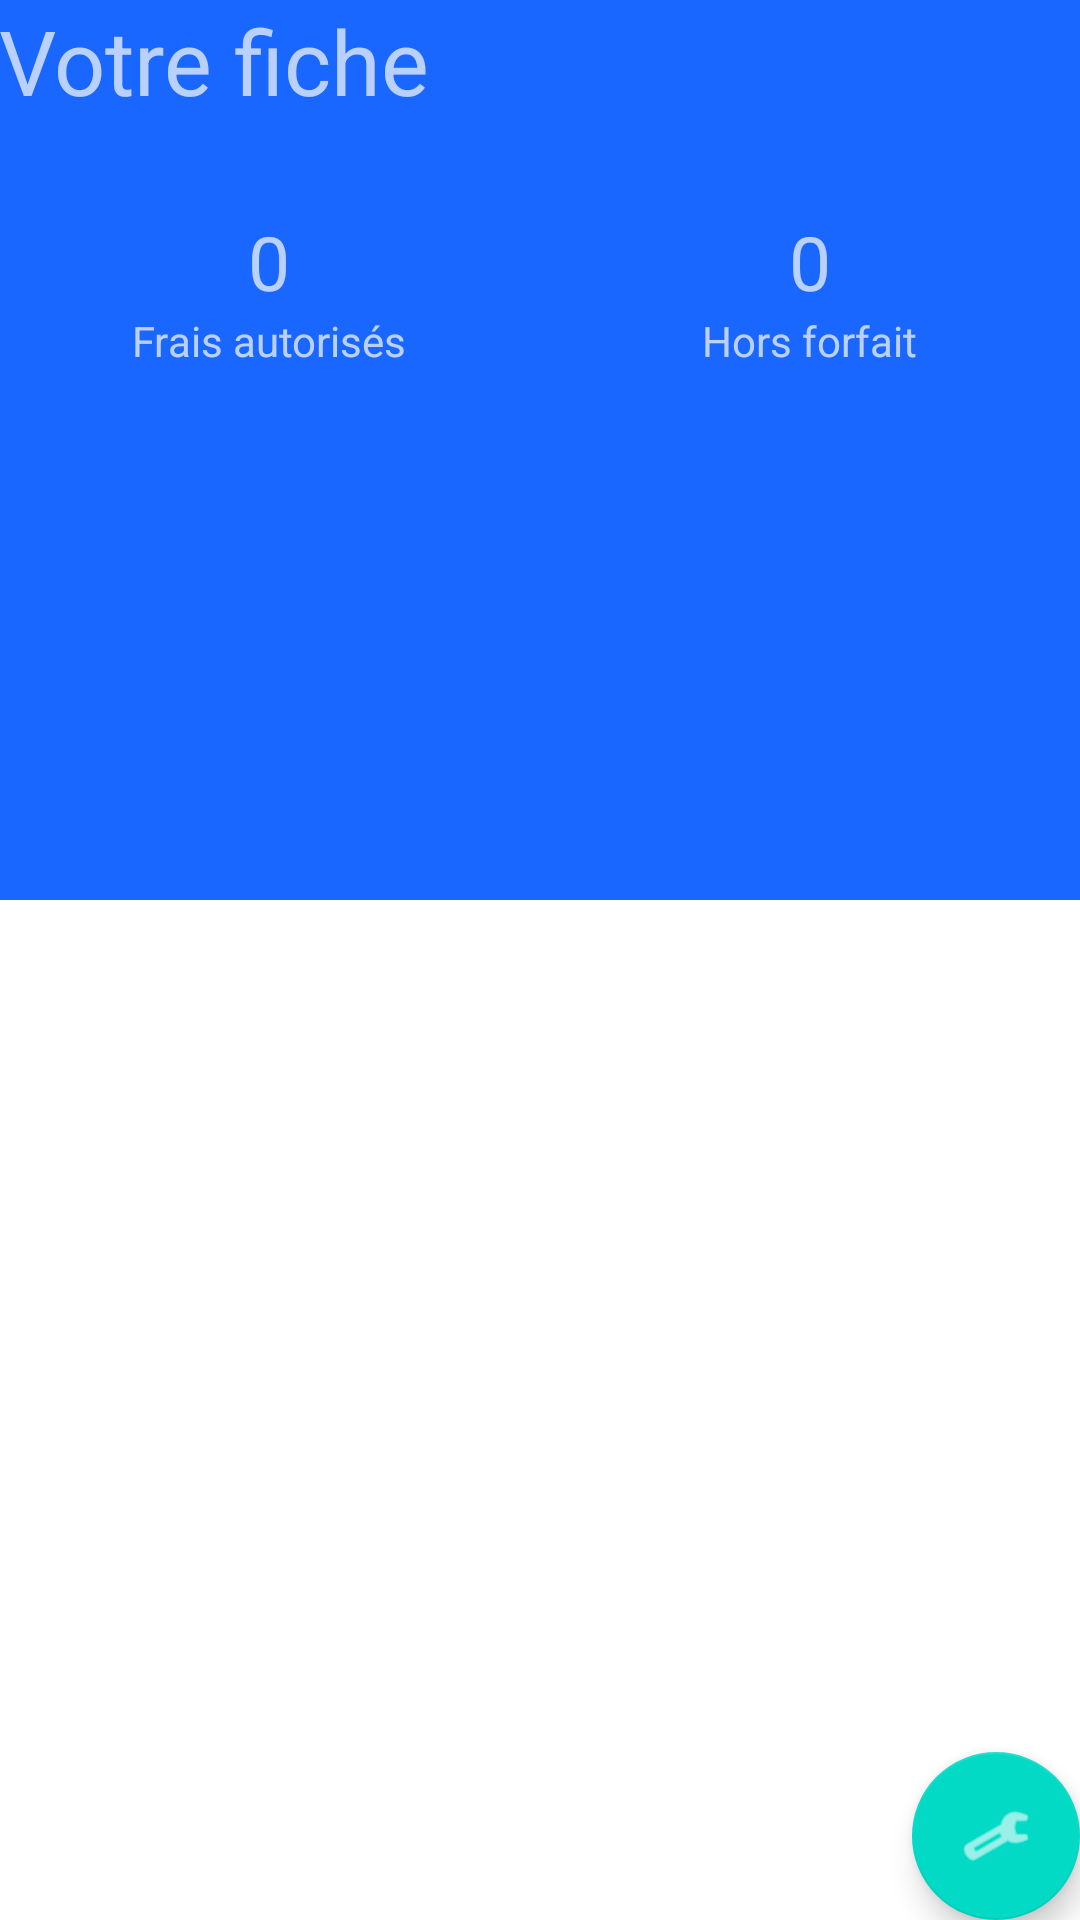

Point at icon controls on the screen. Image size 1080w x 1920h, points as (x=x, y=y).
manage: (x=996, y=1836)
